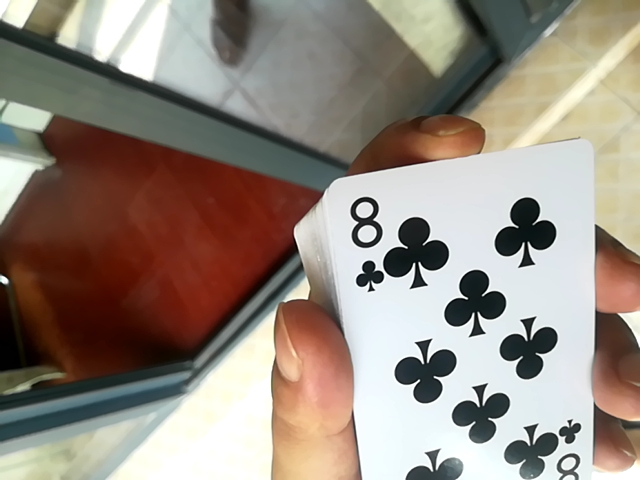mh 8: (294, 144, 606, 478)
